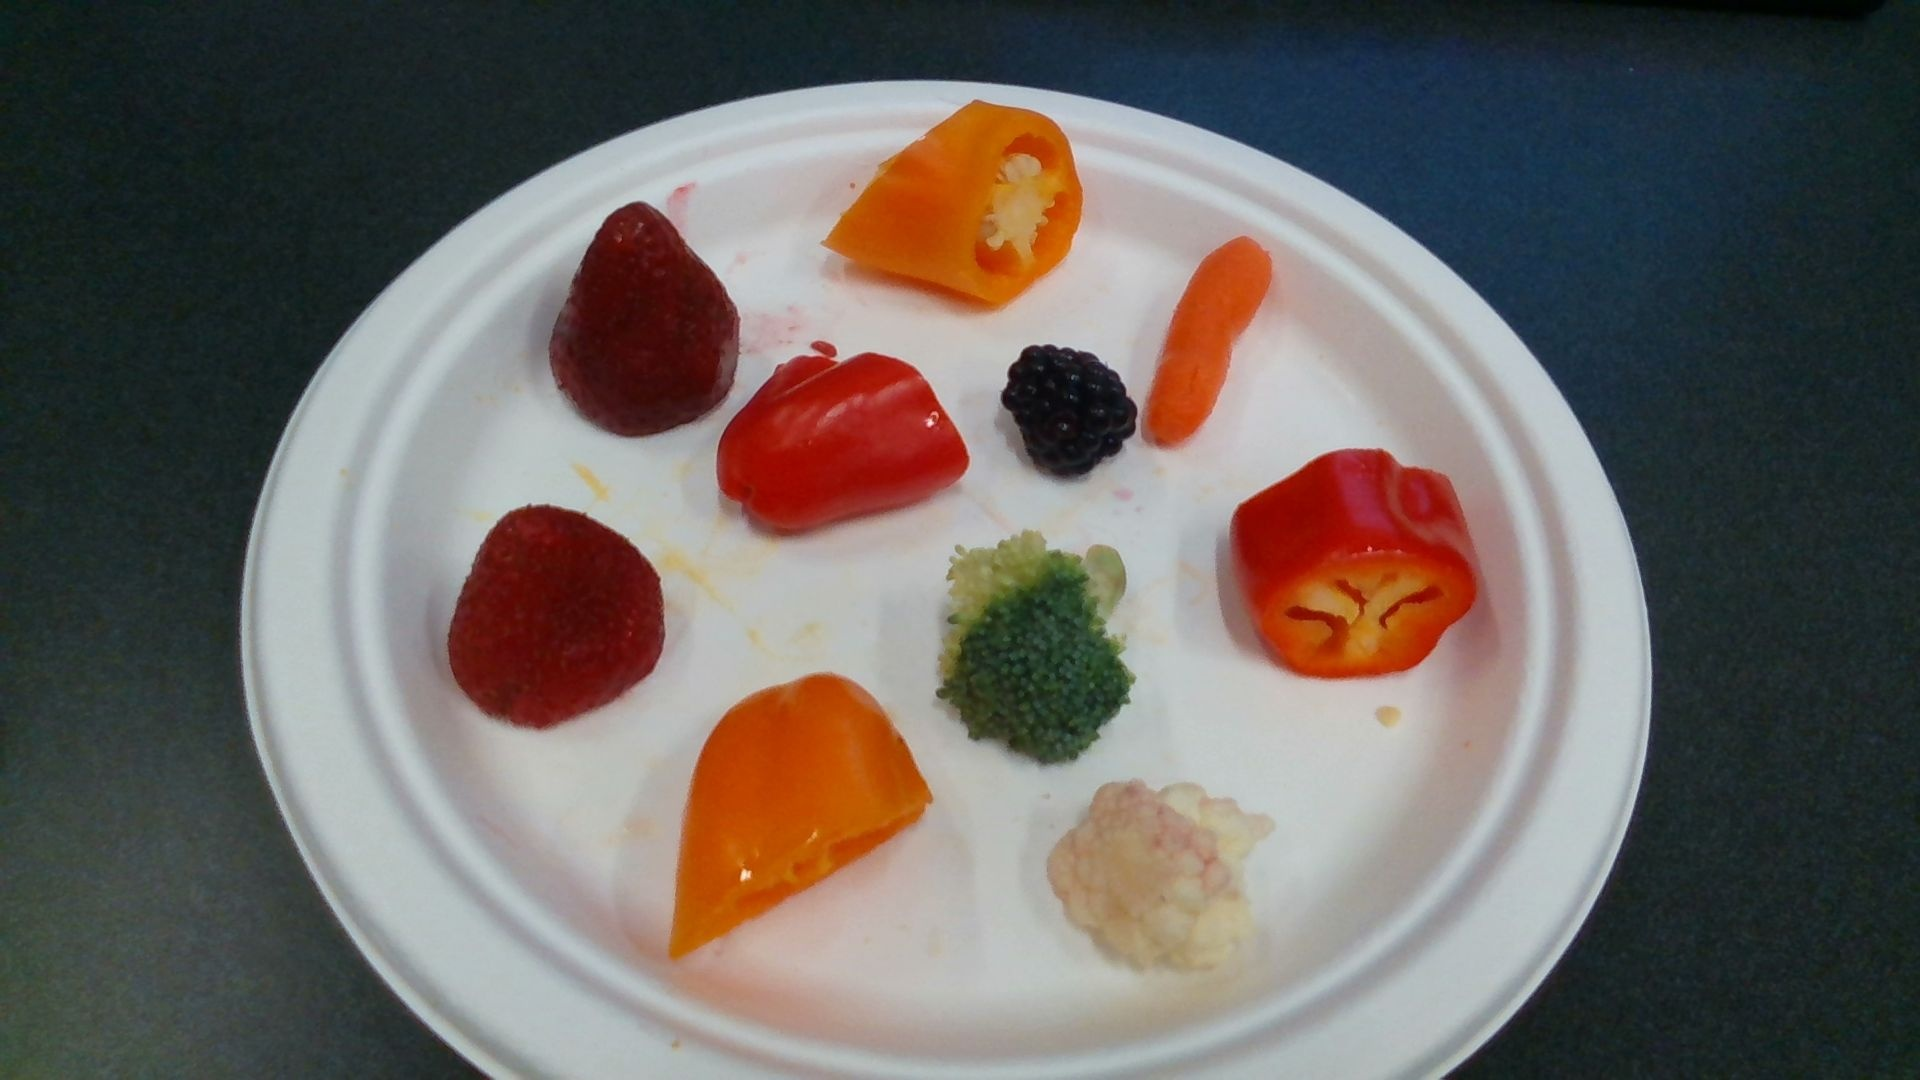bell_pepper: (676, 676, 930, 971), (1232, 451, 1482, 680), (829, 102, 1083, 303), (717, 357, 969, 531)
blackberry: (1005, 348, 1135, 476)
broccoli: (945, 535, 1131, 760)
carrot: (1145, 241, 1275, 450)
cauliflower: (1047, 783, 1270, 971)
strawberry: (448, 505, 665, 727), (555, 206, 738, 430)
